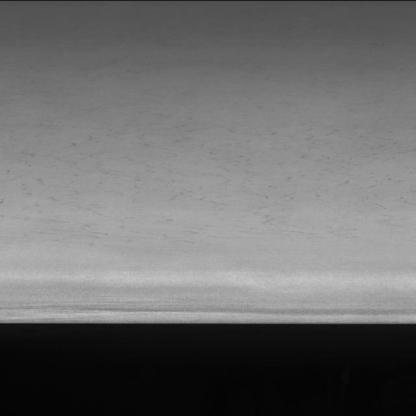silk_spot: (0, 141, 328, 261)
